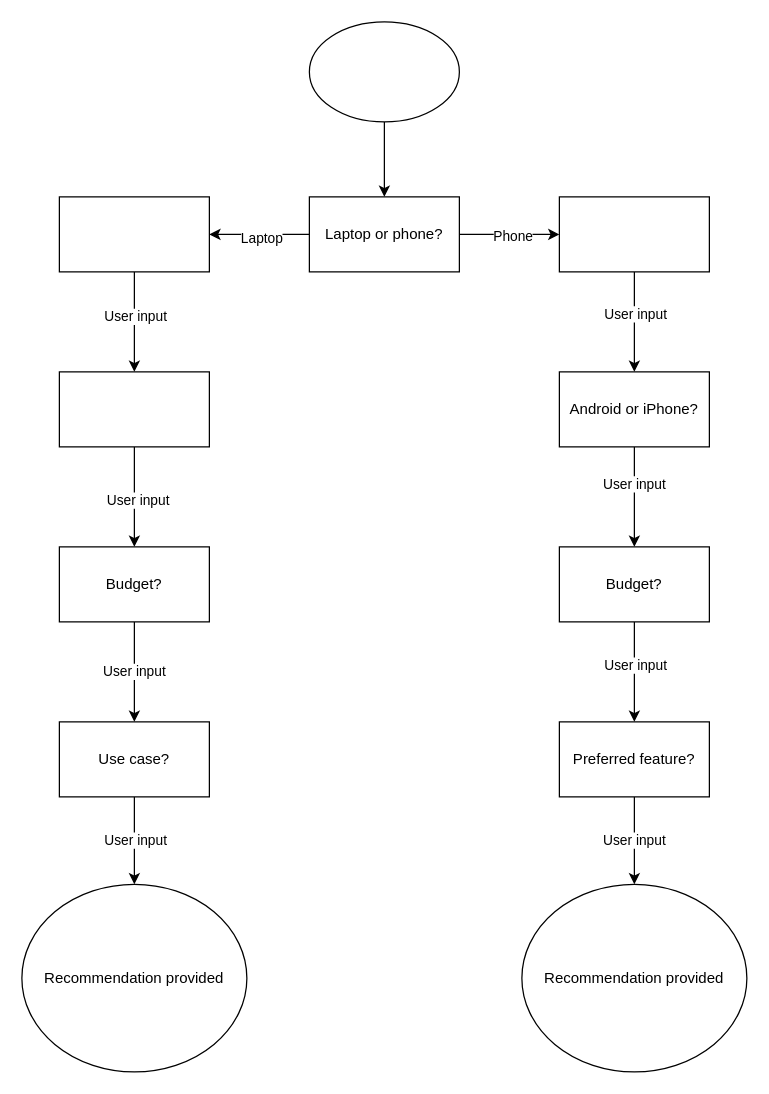
The diagram is 769 pixels wide and 1094 high, and some of its shapes have lost their labels. The shapes that lost their labels are listed below. From the top down, each one's centre as x and y in pixels, then its label:
[383,71]: Start
[133,234]: Call Laptop workflow
[633,234]: Call Phone workflow
[133,409]: Windows or macOS?
